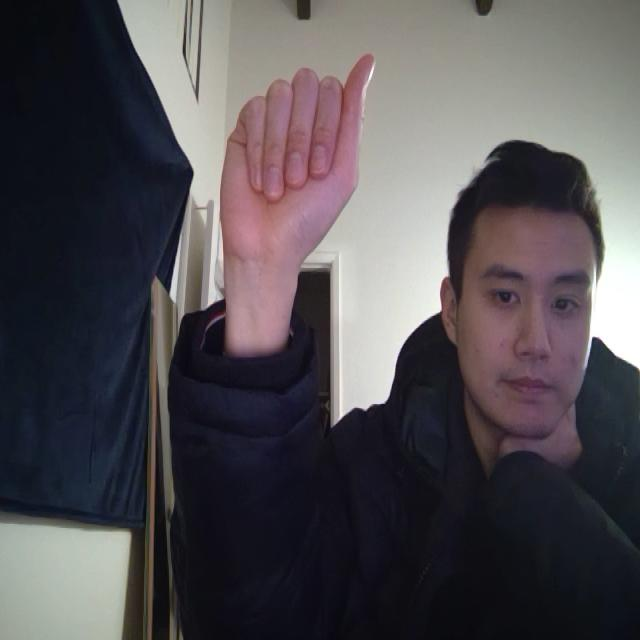A: (207, 28, 385, 369)
